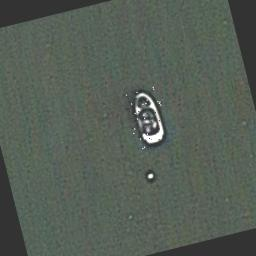boat: (124, 86, 171, 152)
